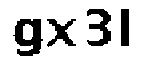3: (83, 6, 112, 51)
g: (11, 16, 45, 60)
l: (119, 6, 138, 49)
x: (43, 18, 77, 49)
